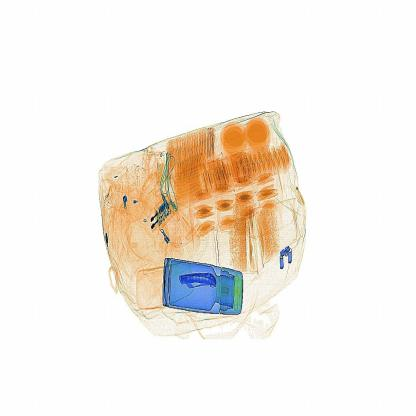knife: (177, 268, 218, 294)
